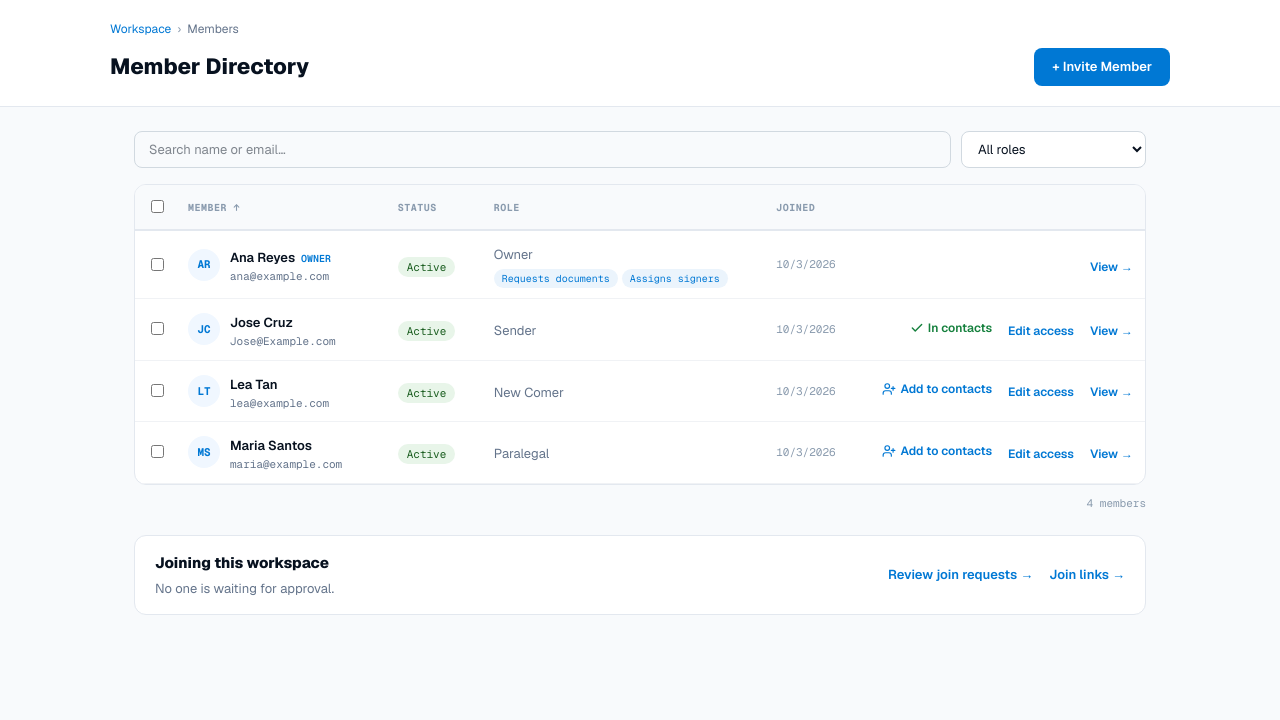
Test: Add workspace members to contacts › adds the selected members in one go, shared with the workspace, skipping anyone already there
expect the button with aria-label "Add Maria Santos to contacts" is shown: met, box [874,438,1000,464]
Click the checkbox named "Select all members" at (158, 206), box [151,200,164,213]
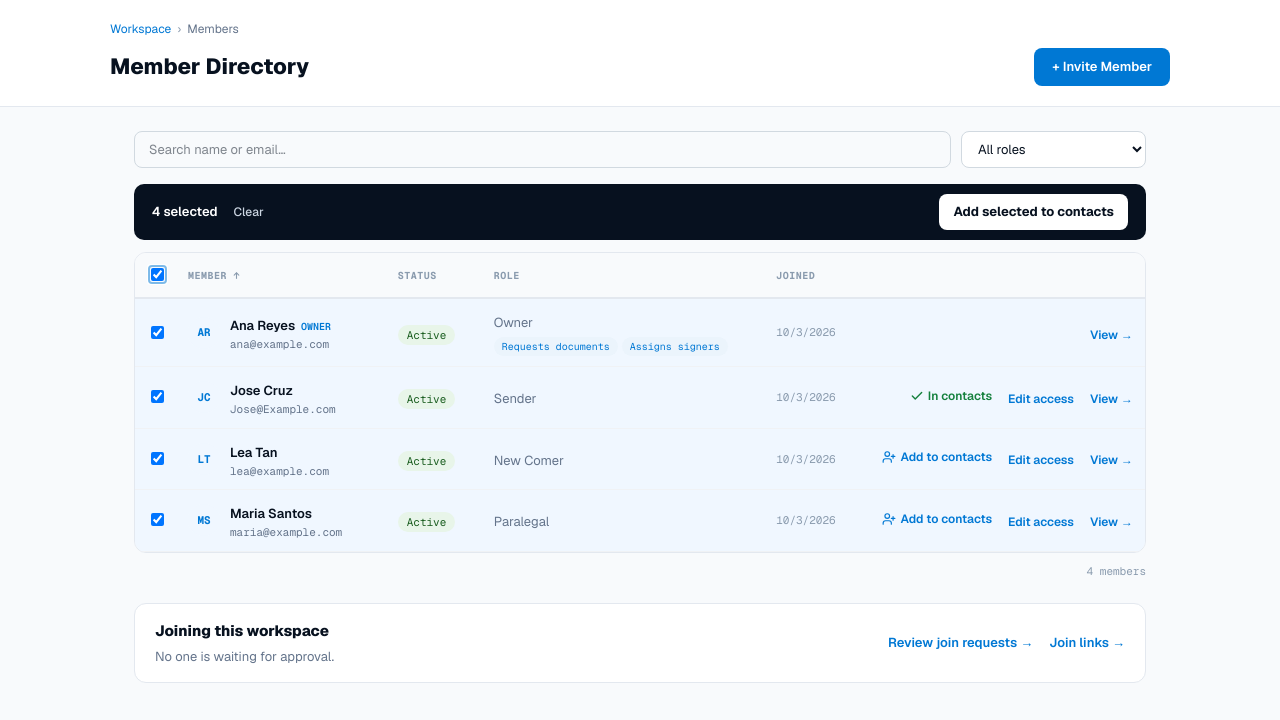
expect the button with test id "bulk-add-contacts" is enabled: met
Click the button with test id "bulk-add-contacts" at (1034, 212), box [939,194,1128,230]
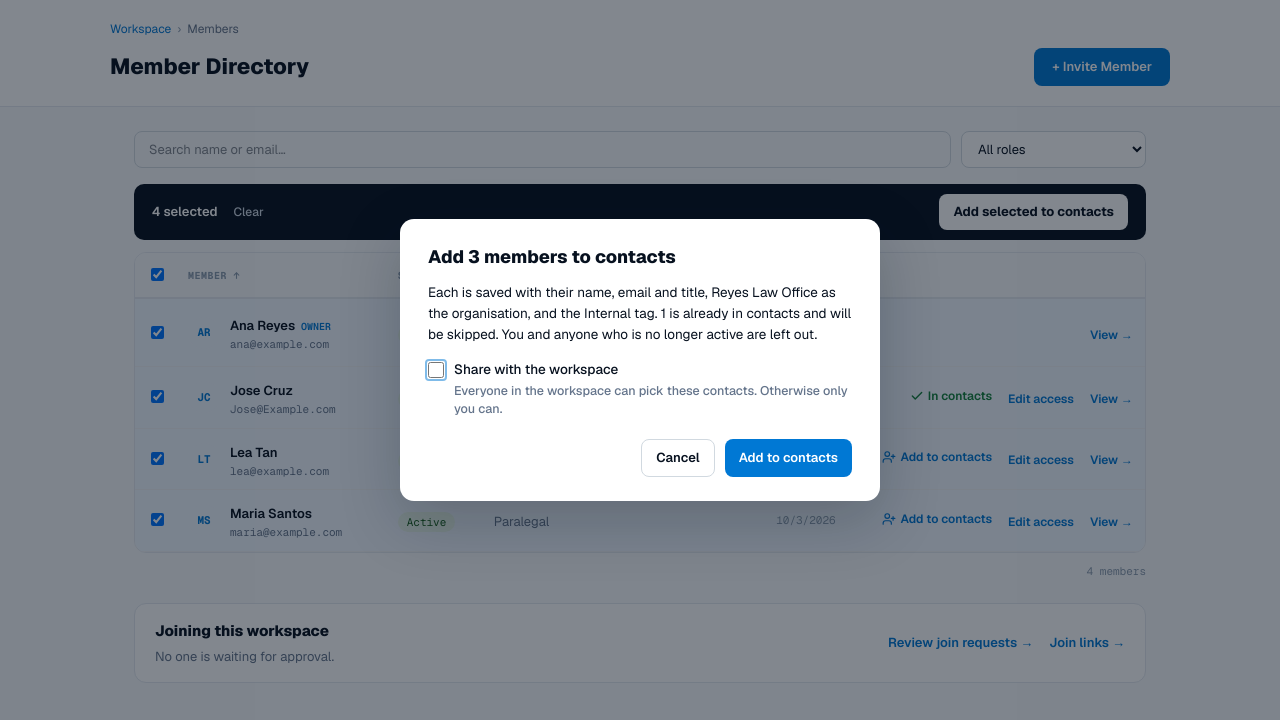
expect the dialog "Add 3 members to contacts" shows "1 is already in contacts and will be skipped": met, box [400,220,880,500]
Click the checkbox labelled "Share with the workspace" at (436, 370), box [428,362,444,378]
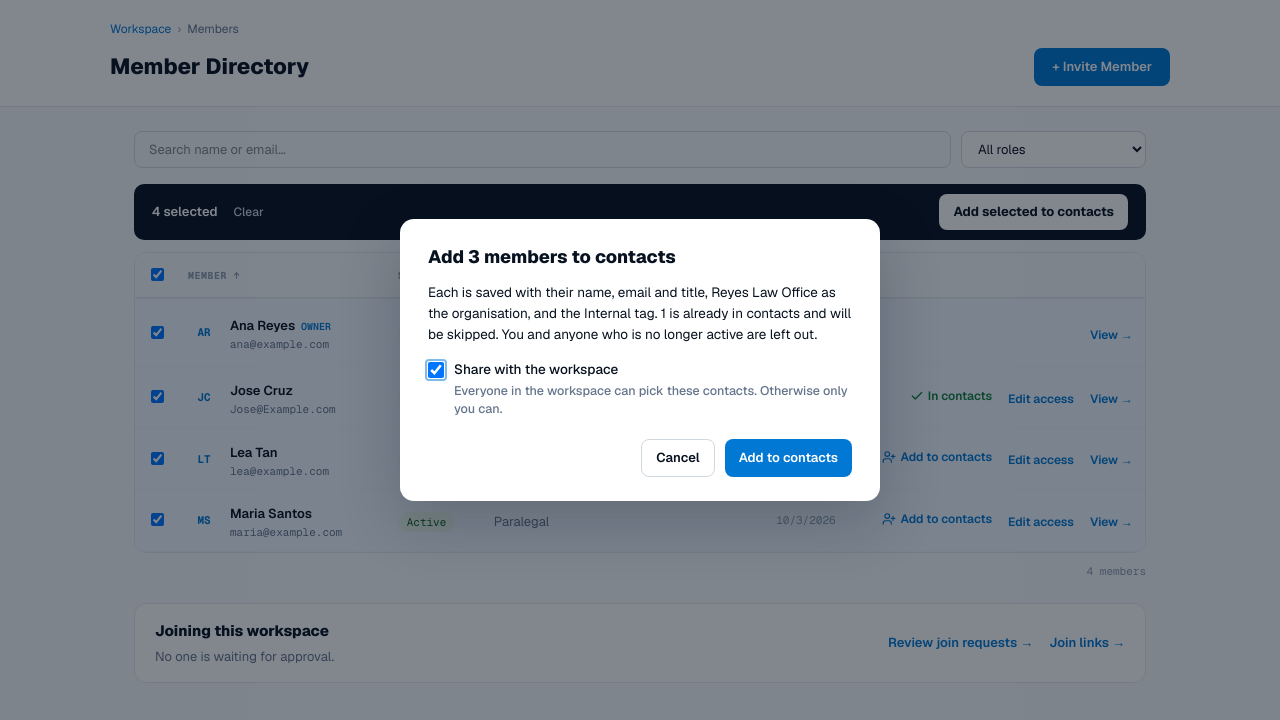
Click the button "Add to contacts" at (788, 458), box [725,439,852,476]
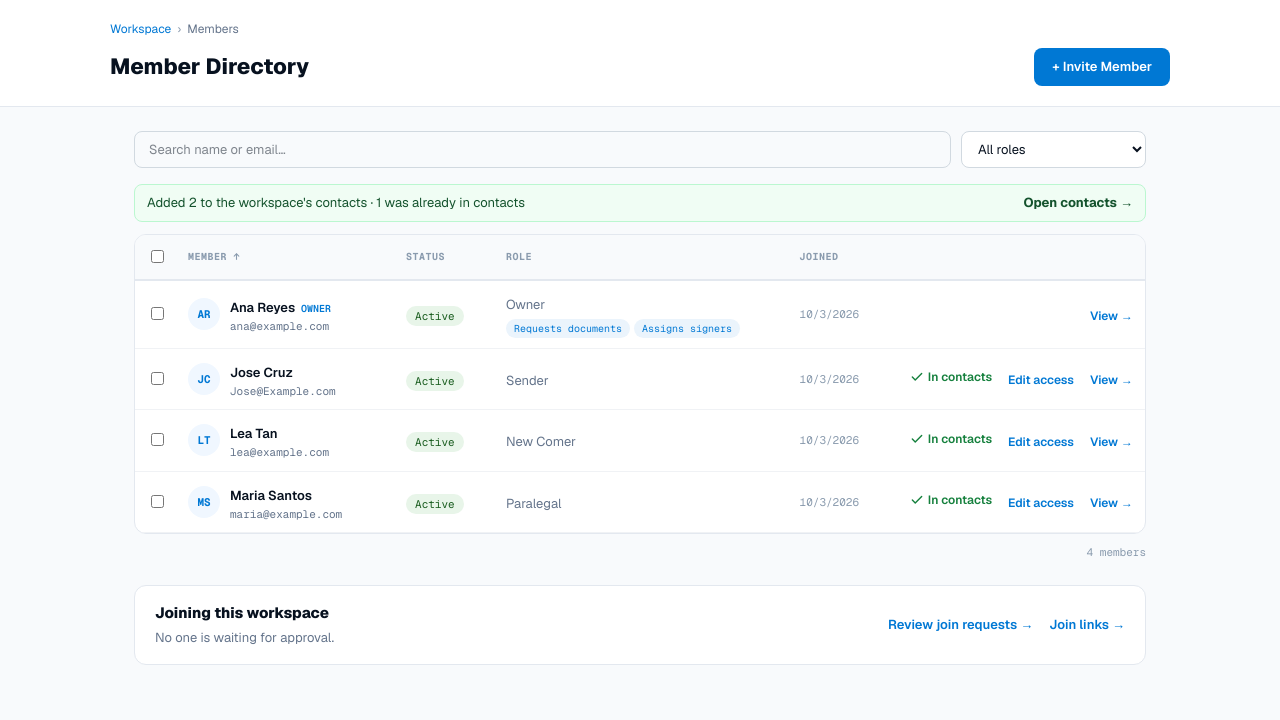
expect the message with test id "contacts-notice" shows "Added 2 to the workspace's contacts · 1 was already in contacts": met, box [147,194,525,211]
